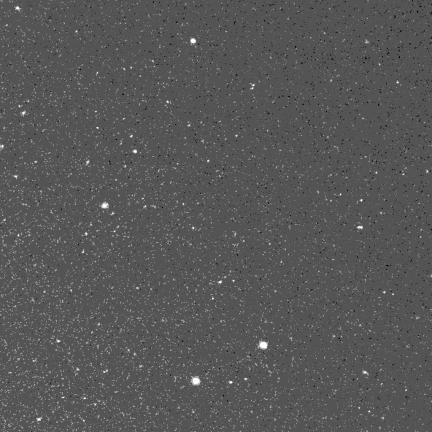blob: (192, 377, 200, 385), (259, 341, 267, 349), (101, 202, 109, 209), (191, 38, 196, 44), (133, 149, 137, 153)
